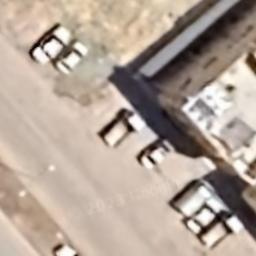pickup: (197, 212, 244, 250), (104, 108, 142, 148)
sedan: (29, 26, 70, 66), (184, 198, 222, 232), (56, 40, 90, 74), (138, 139, 172, 170)
van: (174, 180, 212, 217)
